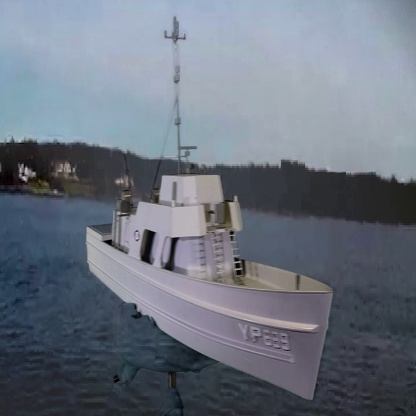YP689: (83, 20, 333, 397)
